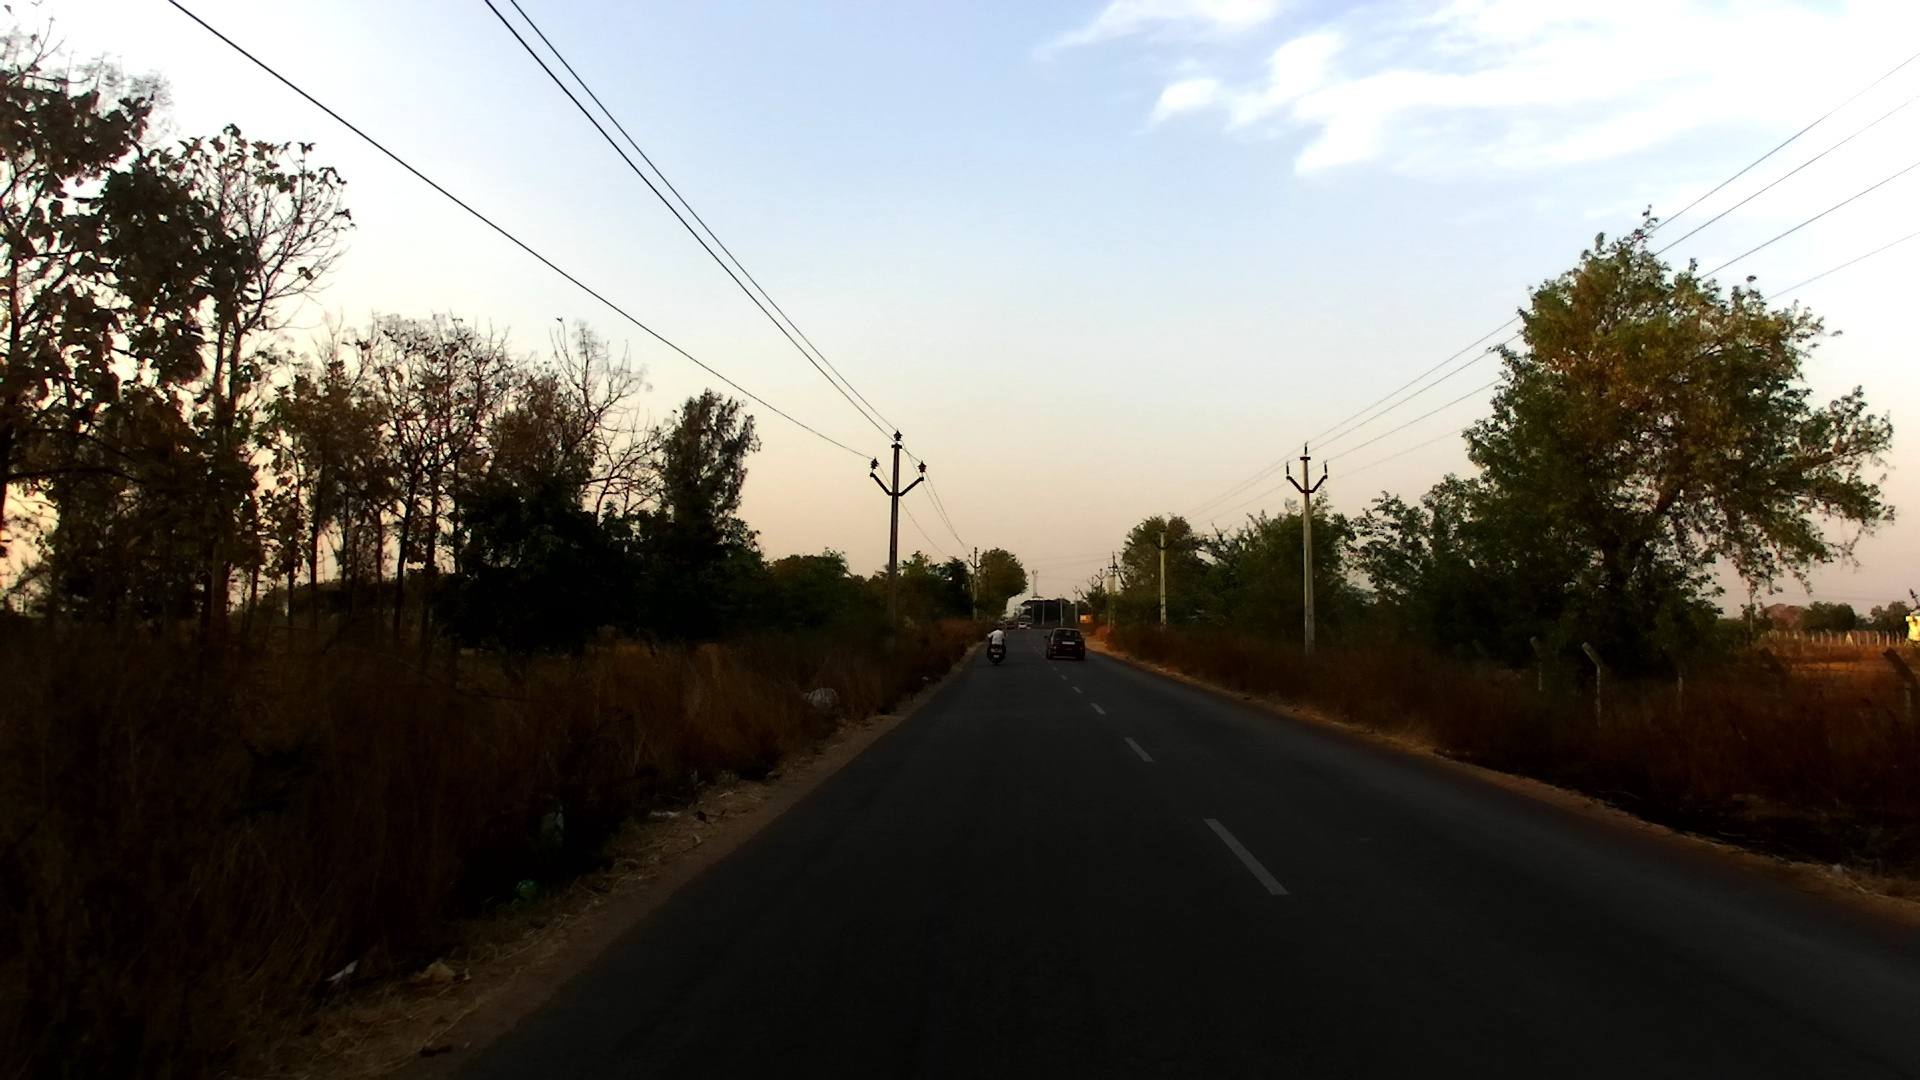car: (1043, 624, 1087, 663), (1004, 618, 1016, 631), (1018, 621, 1029, 631)
motorcycle: (984, 630, 1008, 665)
rider: (984, 621, 1011, 665)
truck: (1016, 614, 1032, 630)
